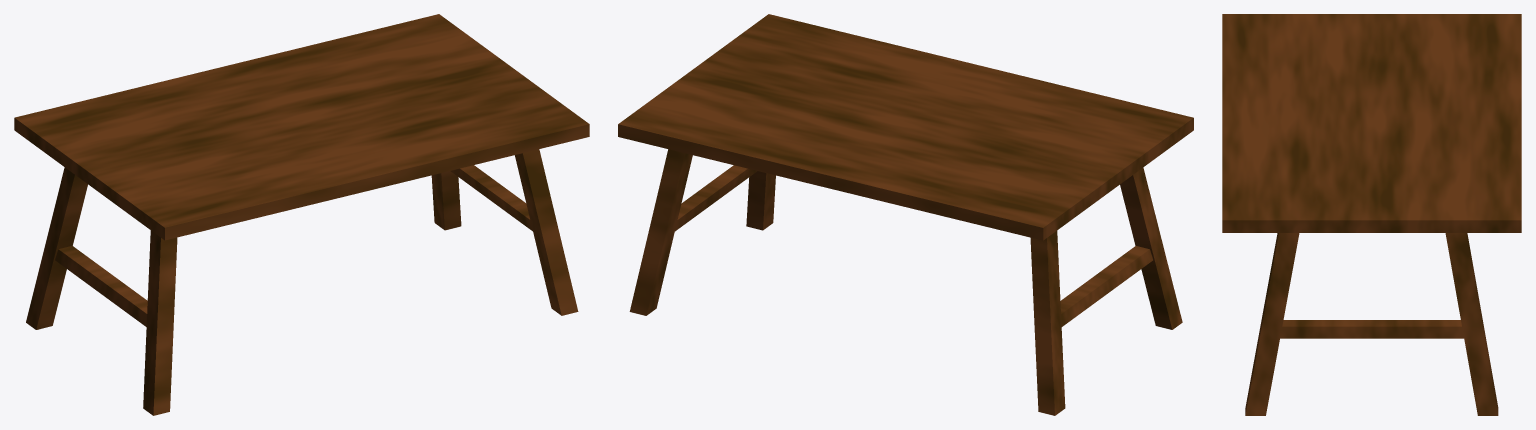
File: stol (2).fbx
The picture shows the model from 3 angles, left to right: view 1: azimuth 30°, elevation 25°; view 2: azimuth 150°, elevation 25°; view 3: azimuth 270°, elevation 25°; orthographic projection.
Visible parts, largest first — view 1: Cube.006; view 2: Cube.006; view 3: Cube.006.
Boxes of the visible parts, <box> form: Cube.006: <box>14,14,589,415</box>; Cube.006: <box>618,14,1193,415</box>; Cube.006: <box>1222,14,1521,415</box>.
Bounding box in the file's own units: 167 × 73.53 × 102.
